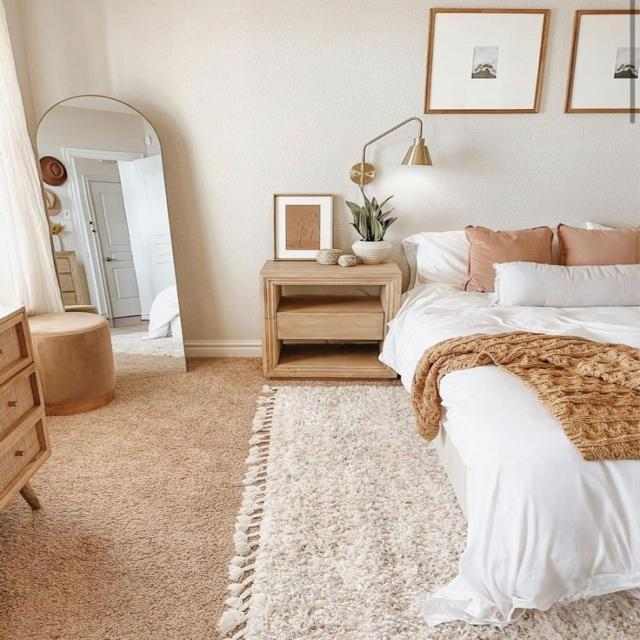door: (78, 168, 142, 328)
obstacle: (378, 224, 639, 626), (258, 258, 402, 380), (0, 304, 52, 513)
